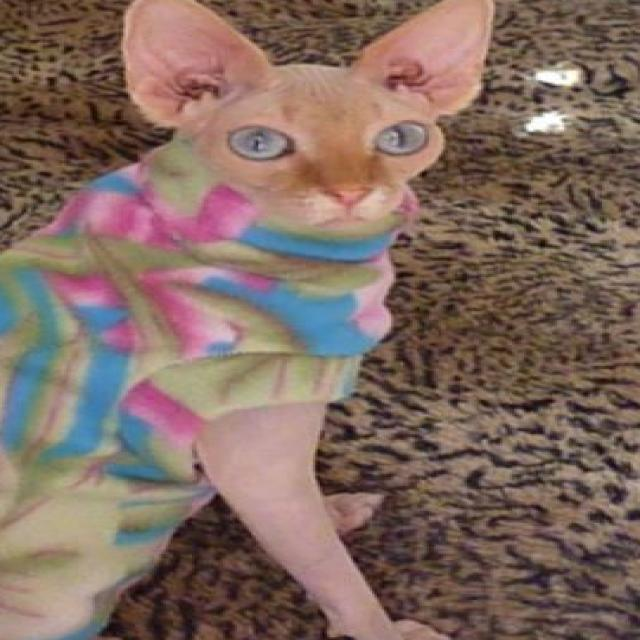Sphynx: (0, 0, 503, 640)
